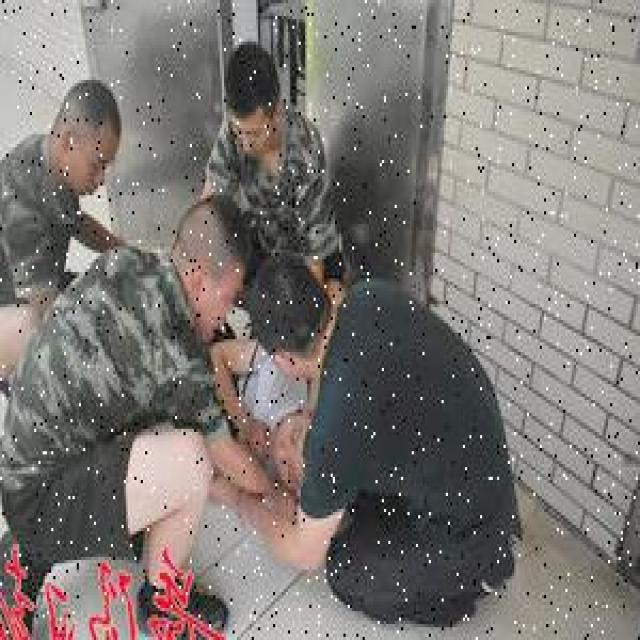fall: (198, 333, 324, 502)
